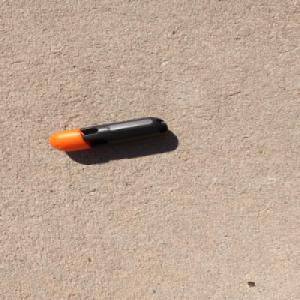PlasticPart: (47, 116, 169, 152)
